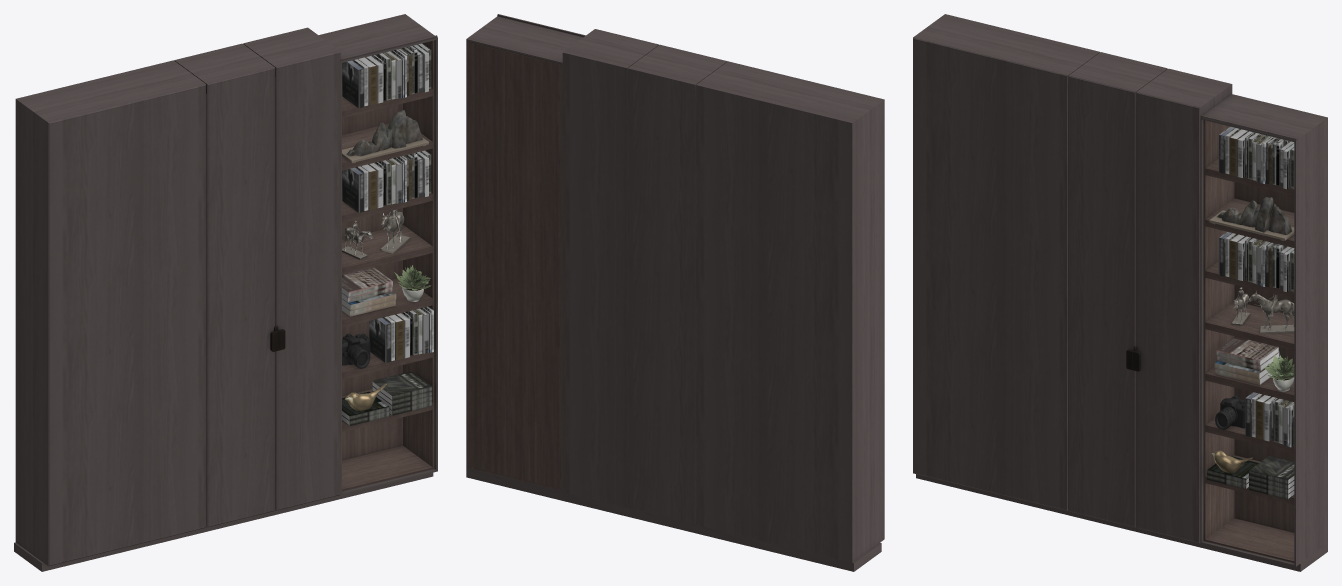
The model's file is raw_model.obj.
The picture shows the model from 3 angles, left to right: view 1: azimuth 30°, elevation 25°; view 2: azimuth 150°, elevation 25°; view 3: azimuth 330°, elevation 25°; orthographic projection.
Visible parts, largest first — view 1: solid_003, solid_008, solid_002, solid_009, solid_004, solid_001, solid_013, solid_005, solid_010; view 2: solid_003, solid_008; view 3: solid_003, solid_008, solid_002, solid_009, solid_004, solid_001, solid_013, solid_010, solid_005.
Part boxes in pixels (<box>): solid_003: <box>14,14,437,571</box>; solid_008: <box>342,40,434,490</box>; solid_002: <box>347,43,433,362</box>; solid_009: <box>342,62,432,425</box>; solid_004: <box>346,110,422,156</box>; solid_001: <box>342,209,410,259</box>; solid_013: <box>342,333,370,368</box>; solid_005: <box>342,137,428,163</box>; solid_010: <box>394,265,431,290</box>; solid_003: <box>466,14,884,571</box>; solid_008: <box>468,41,560,490</box>; solid_003: <box>913,14,1327,571</box>; solid_008: <box>1203,120,1294,562</box>; solid_002: <box>1218,126,1294,447</box>; solid_009: <box>1207,336,1294,499</box>; solid_004: <box>1217,197,1291,234</box>; solid_001: <box>1231,287,1294,333</box>; solid_013: <box>1215,395,1245,430</box>; solid_010: <box>1264,355,1294,380</box>; solid_005: <box>1209,210,1294,240</box>.
Size of the model in its own units: 2.39 by 2.64 by 0.3927.
Materials: 1 (1 with a texture image).
